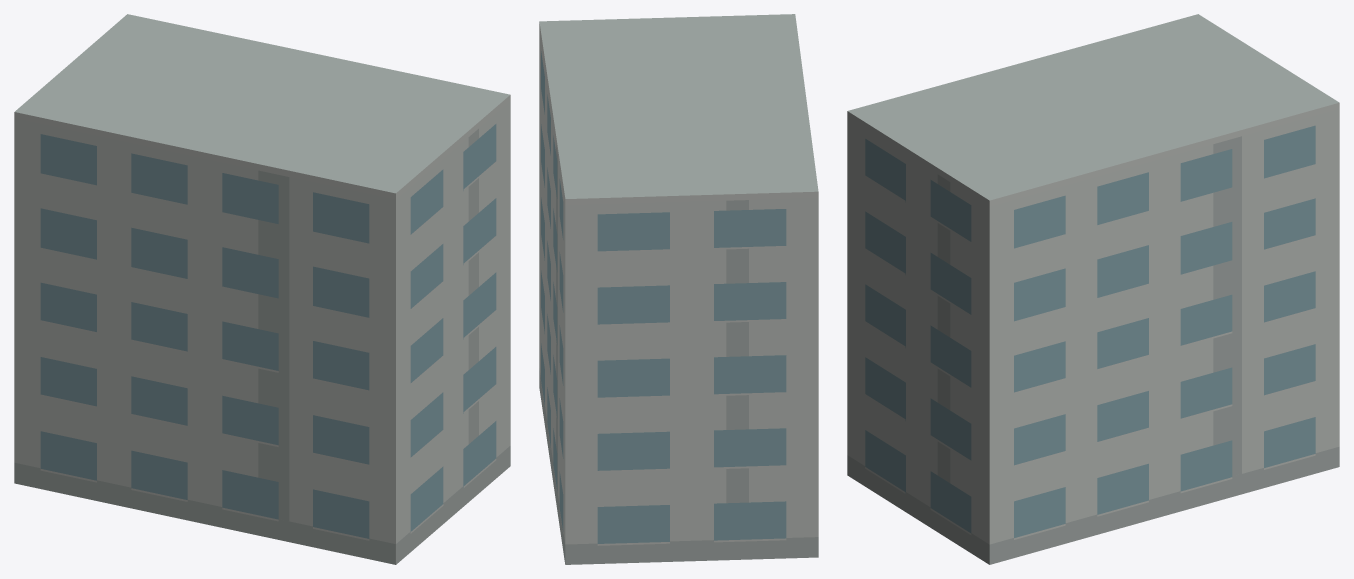
Rendered from survey-upis-32973466.glb.
3 views of the same model, side by side, from view 1: azimuth 30°, elevation 25°; view 2: azimuth 150°, elevation 25°; view 3: azimuth 270°, elevation 25° (orthographic).
Visible parts, largest first — view 1: survey-upis-32973466.tmp; view 2: survey-upis-32973466.tmp; view 3: survey-upis-32973466.tmp.
Part boxes in pixels (box(x1,y1,x2,y2)): survey-upis-32973466.tmp: box(14, 14, 510, 564); survey-upis-32973466.tmp: box(539, 14, 818, 564); survey-upis-32973466.tmp: box(847, 14, 1339, 564).
Size of the model in its own units: 15.5 by 14.1 by 17.28.
